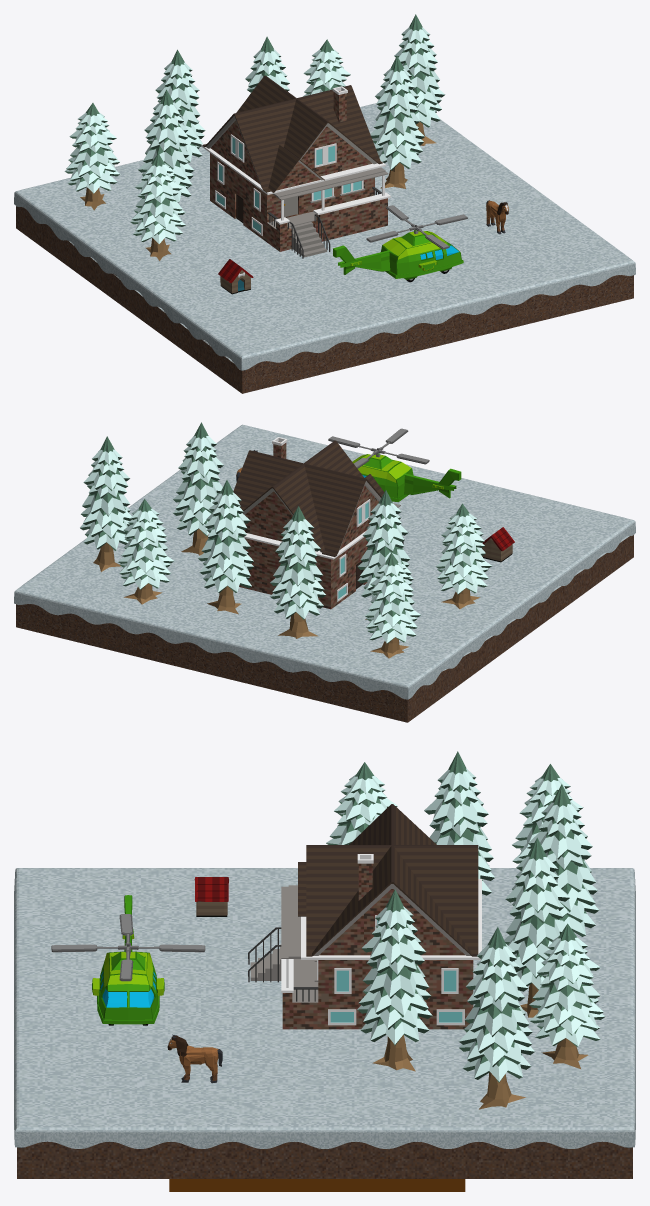
The picture shows the model from 3 angles, top to bottom: view 1: azimuth 30°, elevation 25°; view 2: azimuth 150°, elevation 25°; view 3: azimuth 270°, elevation 25°; orthographic projection. The views are drawn at different scales.
Visible parts, largest first — view 1: Cube.003, Cube.117, VEHICLES_HELICOPTER, OBJRANDOM_DOGHOUSE, ANIMAL_CABALLO; view 2: Cube.003, Cube.117, VEHICLES_HELICOPTER, OBJRANDOM_DOGHOUSE; view 3: Cube.003, Cube.117, VEHICLES_HELICOPTER, UNDERGROUND_ART_PIECE_VAN_GOGH, OBJRANDOM_DOGHOUSE, ANIMAL_CABALLO.
Part boxes in pixels (bbox=[...]): Cube.003: bbox=[14, 14, 635, 393]; Cube.117: bbox=[201, 75, 390, 258]; VEHICLES_HELICOPTER: bbox=[333, 205, 467, 282]; OBJRANDOM_DOGHOUSE: bbox=[218, 259, 253, 294]; ANIMAL_CABALLO: bbox=[486, 200, 508, 234]; Cube.003: bbox=[14, 422, 635, 722]; Cube.117: bbox=[233, 437, 403, 609]; VEHICLES_HELICOPTER: bbox=[328, 428, 461, 502]; OBJRANDOM_DOGHOUSE: bbox=[482, 527, 514, 562]; Cube.003: bbox=[14, 751, 635, 1178]; Cube.117: bbox=[248, 804, 481, 1029]; VEHICLES_HELICOPTER: bbox=[51, 895, 205, 1025]; UNDERGROUND_ART_PIECE_VAN_GOGH: bbox=[169, 1179, 465, 1191]; OBJRANDOM_DOGHOUSE: bbox=[194, 877, 228, 916]; ANIMAL_CABALLO: bbox=[167, 1034, 222, 1083].
Bounding box in the file's own units: 4040 × 1818 × 4040.
Materials: 38 (5 with a texture image).
